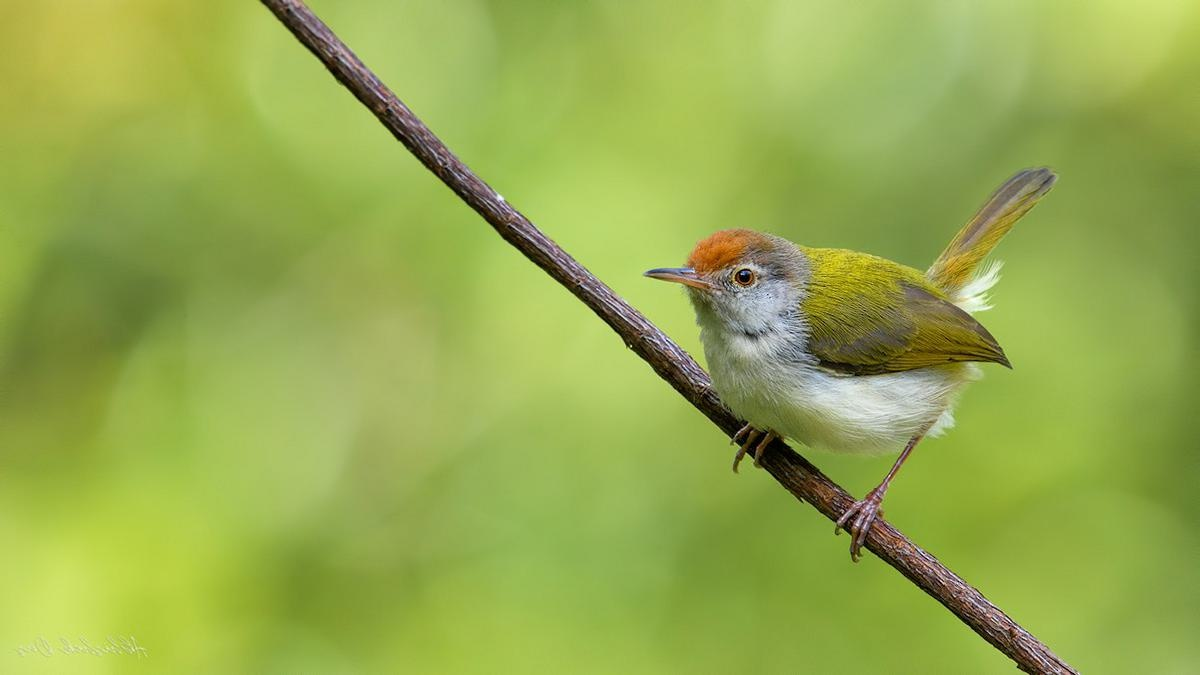tailorbird: (646, 172, 1040, 542)
